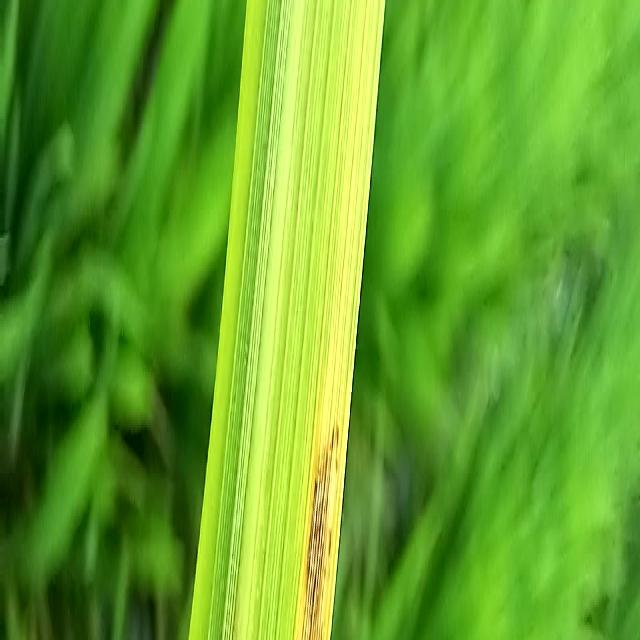LEAF BLAST: (300, 422, 339, 640)
